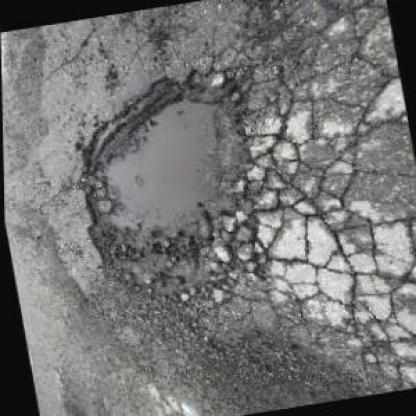pothole: (54, 60, 286, 316)
